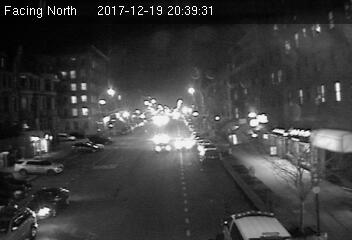car: (24, 187, 71, 217), (175, 136, 195, 152), (153, 142, 172, 154)
police: (217, 209, 293, 238)
